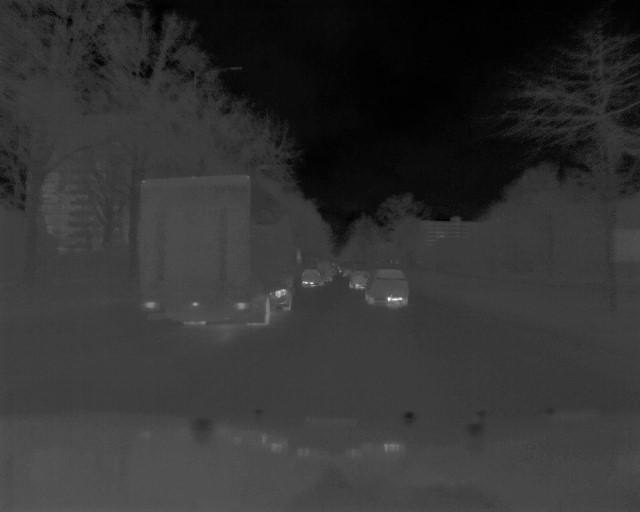car: (367, 266, 412, 311), (349, 267, 370, 292), (300, 265, 322, 287)
